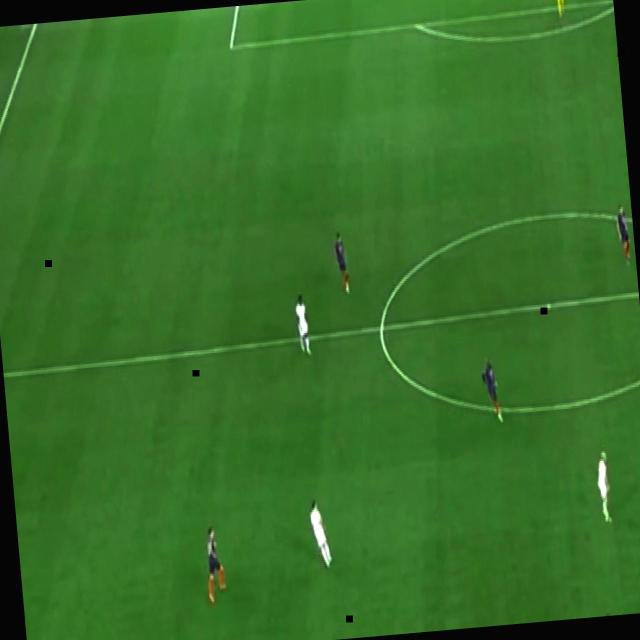player-white: (202, 526, 229, 609), (306, 499, 335, 573), (592, 447, 616, 525), (480, 356, 504, 424), (292, 294, 314, 361), (613, 203, 635, 269), (332, 230, 353, 296), (550, 0, 564, 18)
